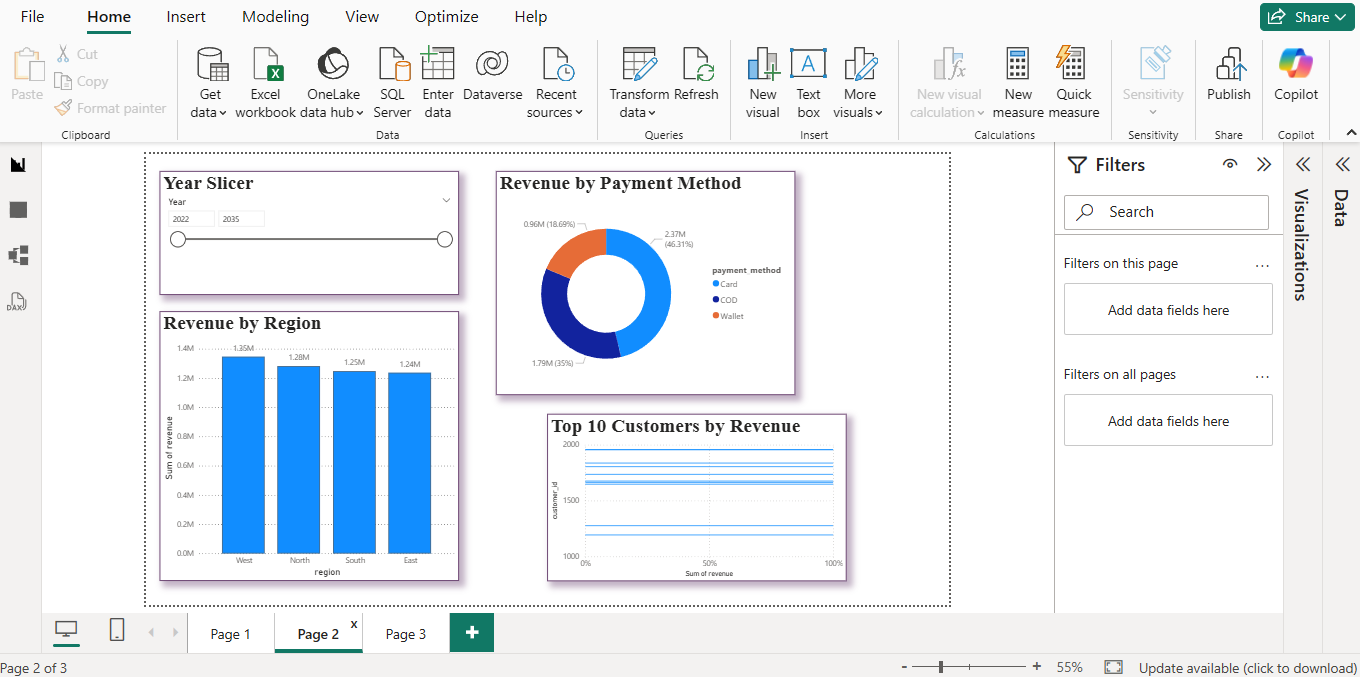

This screenshot's page, from the dashboard's own definition file:
{"tool":"powerbi","page":{"name":"Page 2","canvas":[1280,720],"ordinal":1},"visuals":[{"type":"clusteredColumnChart","title":"Revenue by Region","fields":{"Category":["ecommerce_cleaned.region"],"Y":["Sum(ecommerce_cleaned.revenue)"]},"box":[21.5,251.4,477.1,429.8],"z":0},{"type":"donutChart","title":"Revenue by Payment Method","fields":{"Category":["ecommerce_cleaned.payment_method"],"Y":["Sum(ecommerce_cleaned.revenue)"]},"box":[558.7,27.9,477.1,356.7],"z":1},{"type":"hundredPercentStackedBarChart","title":"Top 10 Customers by Revenue","fields":{"Y":["Sum(ecommerce_cleaned.revenue)"],"Category":["ecommerce_cleaned.customer_id"]},"box":[640.4,414.7,477.1,266.5],"z":2},{"type":"slicer","title":"Year Slicer","fields":{"Values":["ecommerce_cleaned.Year"]},"box":[21.5,27.9,477.1,197.7],"z":3}]}

Visuals, with their boxes on the page's 1280x720 design canvas (x1, y1, x2, y2). These are canvas units, not pixel positions in the 1360x677 screenshot, which may show the page scaled, cropped or inside an application window:
"Revenue by Region" clusteredColumnChart: bbox(22, 251, 499, 681)
"Revenue by Payment Method" donutChart: bbox(559, 28, 1036, 385)
"Top 10 Customers by Revenue" hundredPercentStackedBarChart: bbox(640, 415, 1118, 681)
"Year Slicer" slicer: bbox(22, 28, 499, 226)
